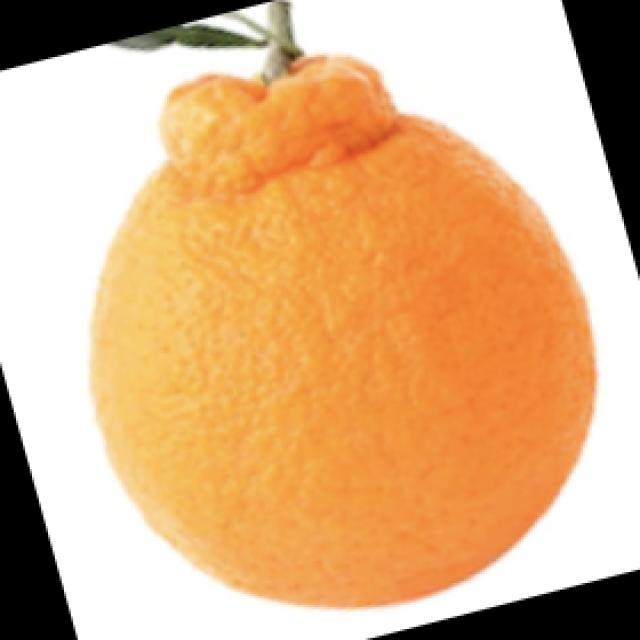matang: (92, 57, 595, 605)
